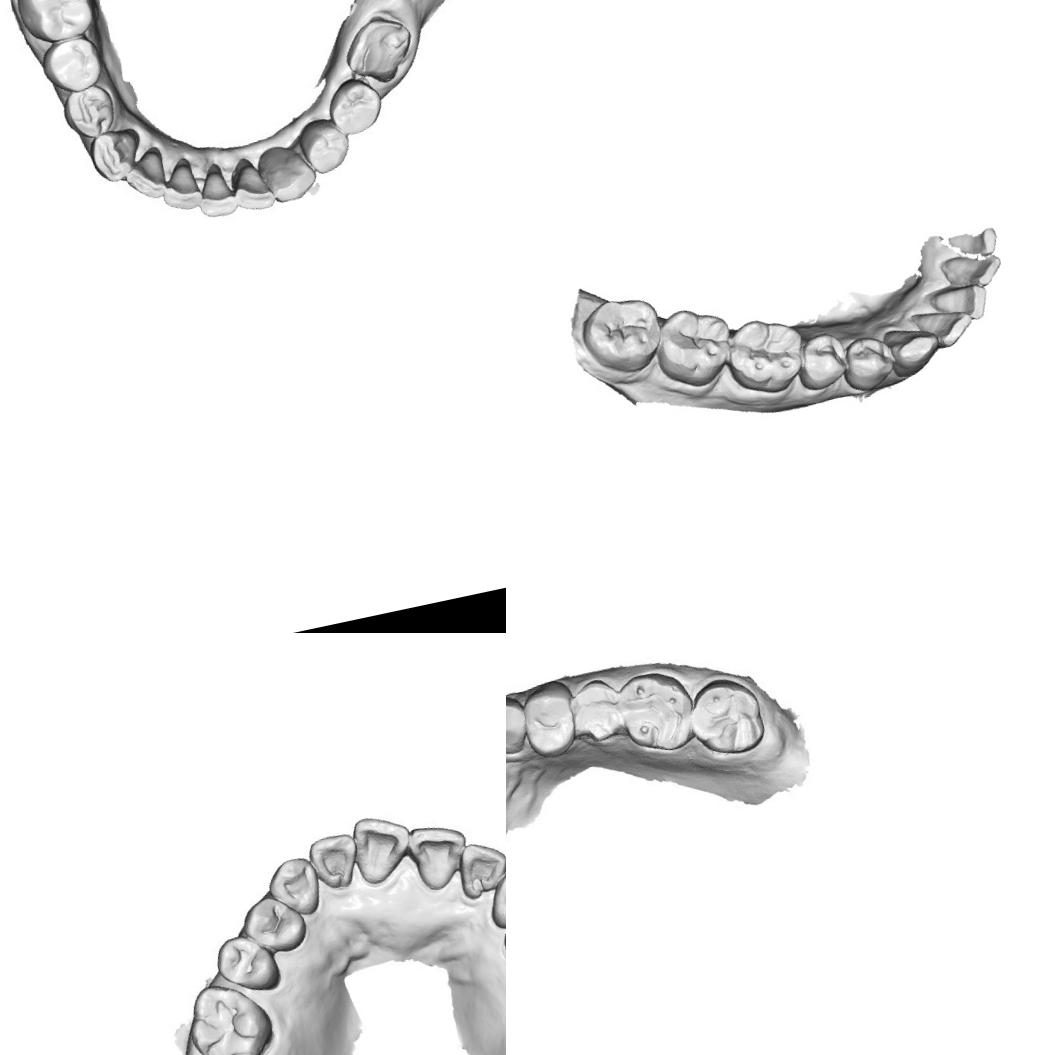canine: (262, 850, 330, 926), (254, 136, 318, 207), (880, 316, 948, 382), (85, 124, 146, 185), (506, 691, 531, 767), (479, 864, 506, 930)
incisor: (344, 808, 420, 892), (402, 819, 475, 899), (447, 837, 506, 905), (908, 298, 976, 355), (936, 246, 1006, 296), (928, 278, 994, 329), (223, 152, 272, 213), (307, 834, 358, 892), (153, 156, 203, 215), (188, 160, 237, 220), (124, 150, 174, 202)
molar: (647, 298, 744, 396), (681, 662, 769, 765), (574, 288, 670, 382), (722, 307, 811, 404), (184, 974, 281, 1055), (614, 666, 698, 758), (340, 10, 421, 95), (9, 0, 105, 47)
premolar: (204, 928, 286, 1000), (318, 71, 388, 145), (239, 888, 306, 960), (517, 686, 584, 758), (790, 327, 854, 396), (564, 675, 628, 744), (837, 330, 902, 396), (294, 112, 355, 176), (44, 33, 104, 92), (62, 82, 116, 136)
